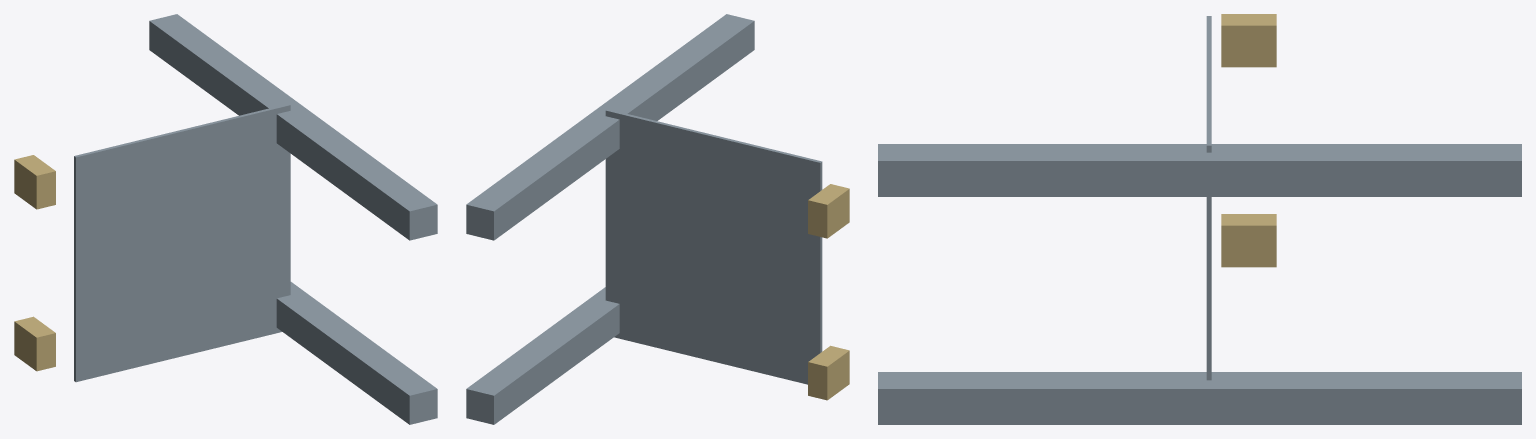
The model's file is A12_STATION_DEPOT.glb.
3 views of the same model, side by side, from view 1: azimuth 30°, elevation 25°; view 2: azimuth 150°, elevation 25°; view 3: azimuth 270°, elevation 25° (orthographic). The views are drawn at different scales.
Visible parts, largest first — view 1: D07_0, D08_2, D08_1, D06_4, D06_3; view 2: D07_0, D08_2, D08_1, D06_4, D06_3; view 3: D08_1, D08_2, D06_3, D06_4, D07_0.
Part boxes in pixels (x1,y1,x2,y2): D07_0: [74, 103, 290, 382]; D08_2: [149, 14, 437, 240]; D08_1: [276, 282, 437, 424]; D06_4: [14, 155, 55, 209]; D06_3: [14, 316, 55, 371]; D07_0: [605, 109, 822, 384]; D08_2: [466, 14, 754, 240]; D08_1: [466, 287, 619, 424]; D06_4: [808, 184, 849, 238]; D06_3: [808, 345, 849, 400]; D08_1: [878, 372, 1521, 424]; D08_2: [878, 144, 1521, 196]; D06_3: [1221, 214, 1276, 267]; D06_4: [1221, 14, 1276, 67]; D07_0: [1206, 16, 1211, 380].
Bounding box in the file's own units: 610 × 500 × 1050.
